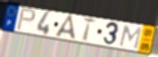3: (102, 21, 120, 47)
4: (36, 9, 51, 37)
A: (53, 14, 77, 42)
M: (118, 24, 143, 50)
P: (15, 7, 37, 31)
T: (82, 16, 97, 43)
